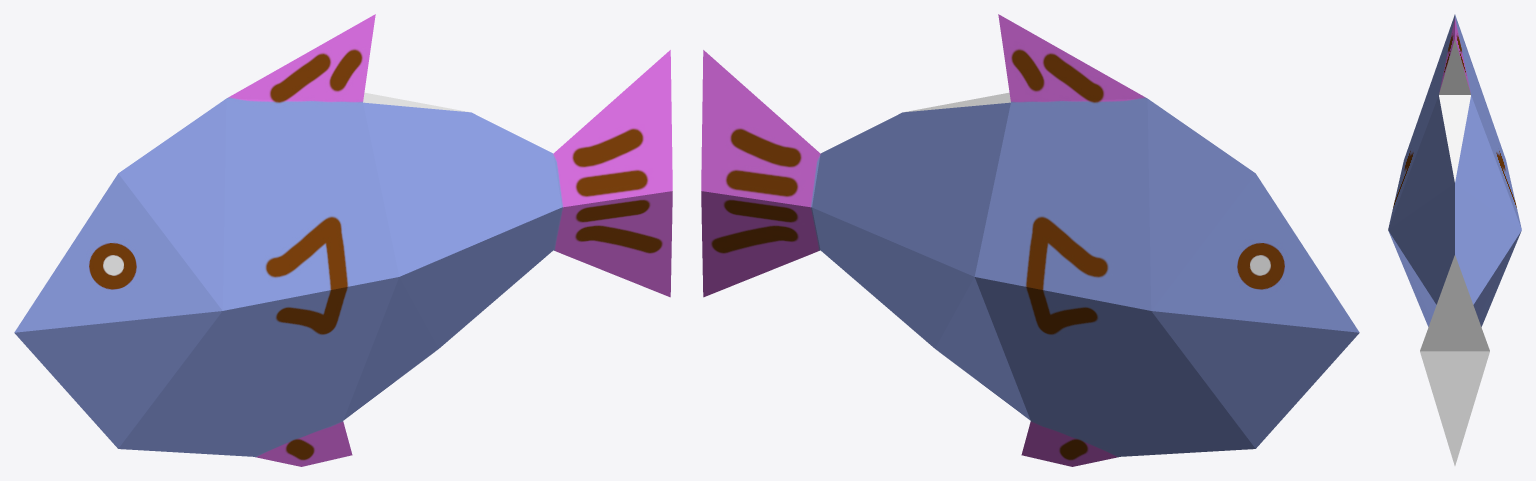
Rendered from fish.glb.
3 renders of one model, left to right at view 1: azimuth 30°, elevation 25°; view 2: azimuth 150°, elevation 25°; view 3: azimuth 270°, elevation 25°, orthographic. The views are drawn at different scales.
Parts seen in each view (by area): view 1: Plane; view 2: Plane; view 3: Plane.
Part boxes in pixels (x1,y1,x2,y2): Plane: (14,14,672,466); Plane: (701,14,1359,466); Plane: (1388,14,1521,465).
Bounding box in the file's own units: 4.85 × 3.08 × 1.
1 material, 1 textured.
